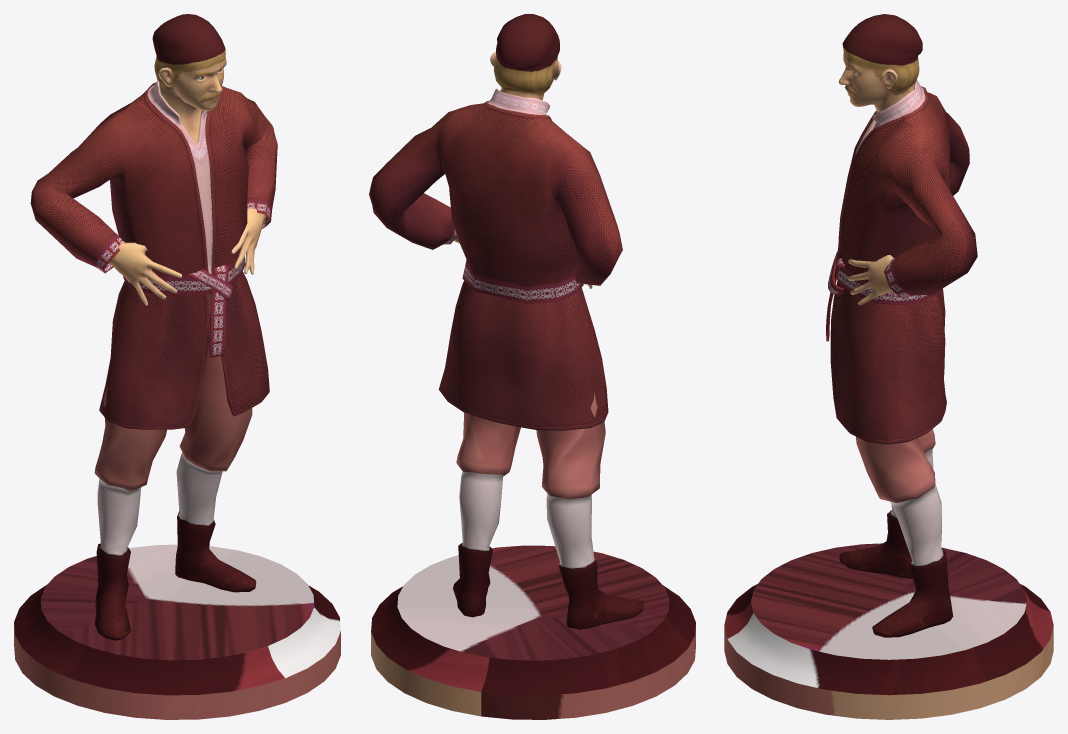
The model's file is NPCFigurka.fbx.
The picture shows the model from 3 angles, left to right: view 1: azimuth 30°, elevation 25°; view 2: azimuth 150°, elevation 25°; view 3: azimuth 270°, elevation 25°; orthographic projection.
Visible parts, largest first — view 1: cloth_low, stand, skirt_low, head_low, hands_low, belt1_low, belt2_low; view 2: cloth_low, stand, skirt_low, head_low; view 3: stand, cloth_low, skirt_low, head_low, hands_low.
Part boxes in pixels (left/top/right/bottom): cloth_low: left=30, top=80, right=277, bottom=640; stand: left=14, top=544, right=340, bottom=719; skirt_low: left=99, top=271, right=269, bottom=429; head_low: left=152, top=14, right=226, bottom=145; hands_low: left=109, top=207, right=266, bottom=305; belt1_low: left=209, top=264, right=228, bottom=358; belt2_low: left=188, top=269, right=234, bottom=300; cloth_low: left=369, top=88, right=643, bottom=629; stand: left=371, top=545, right=695, bottom=719; skirt_low: left=439, top=280, right=608, bottom=430; head_low: left=490, top=14, right=561, bottom=100; stand: left=724, top=543, right=1053, bottom=719; cloth_low: left=836, top=80, right=977, bottom=637; skirt_low: left=830, top=281, right=946, bottom=444; head_low: left=838, top=14, right=922, bottom=128; hands_low: left=848, top=255, right=893, bottom=305.
Size of the model in its own units: 88.92 by 190 by 88.92.
